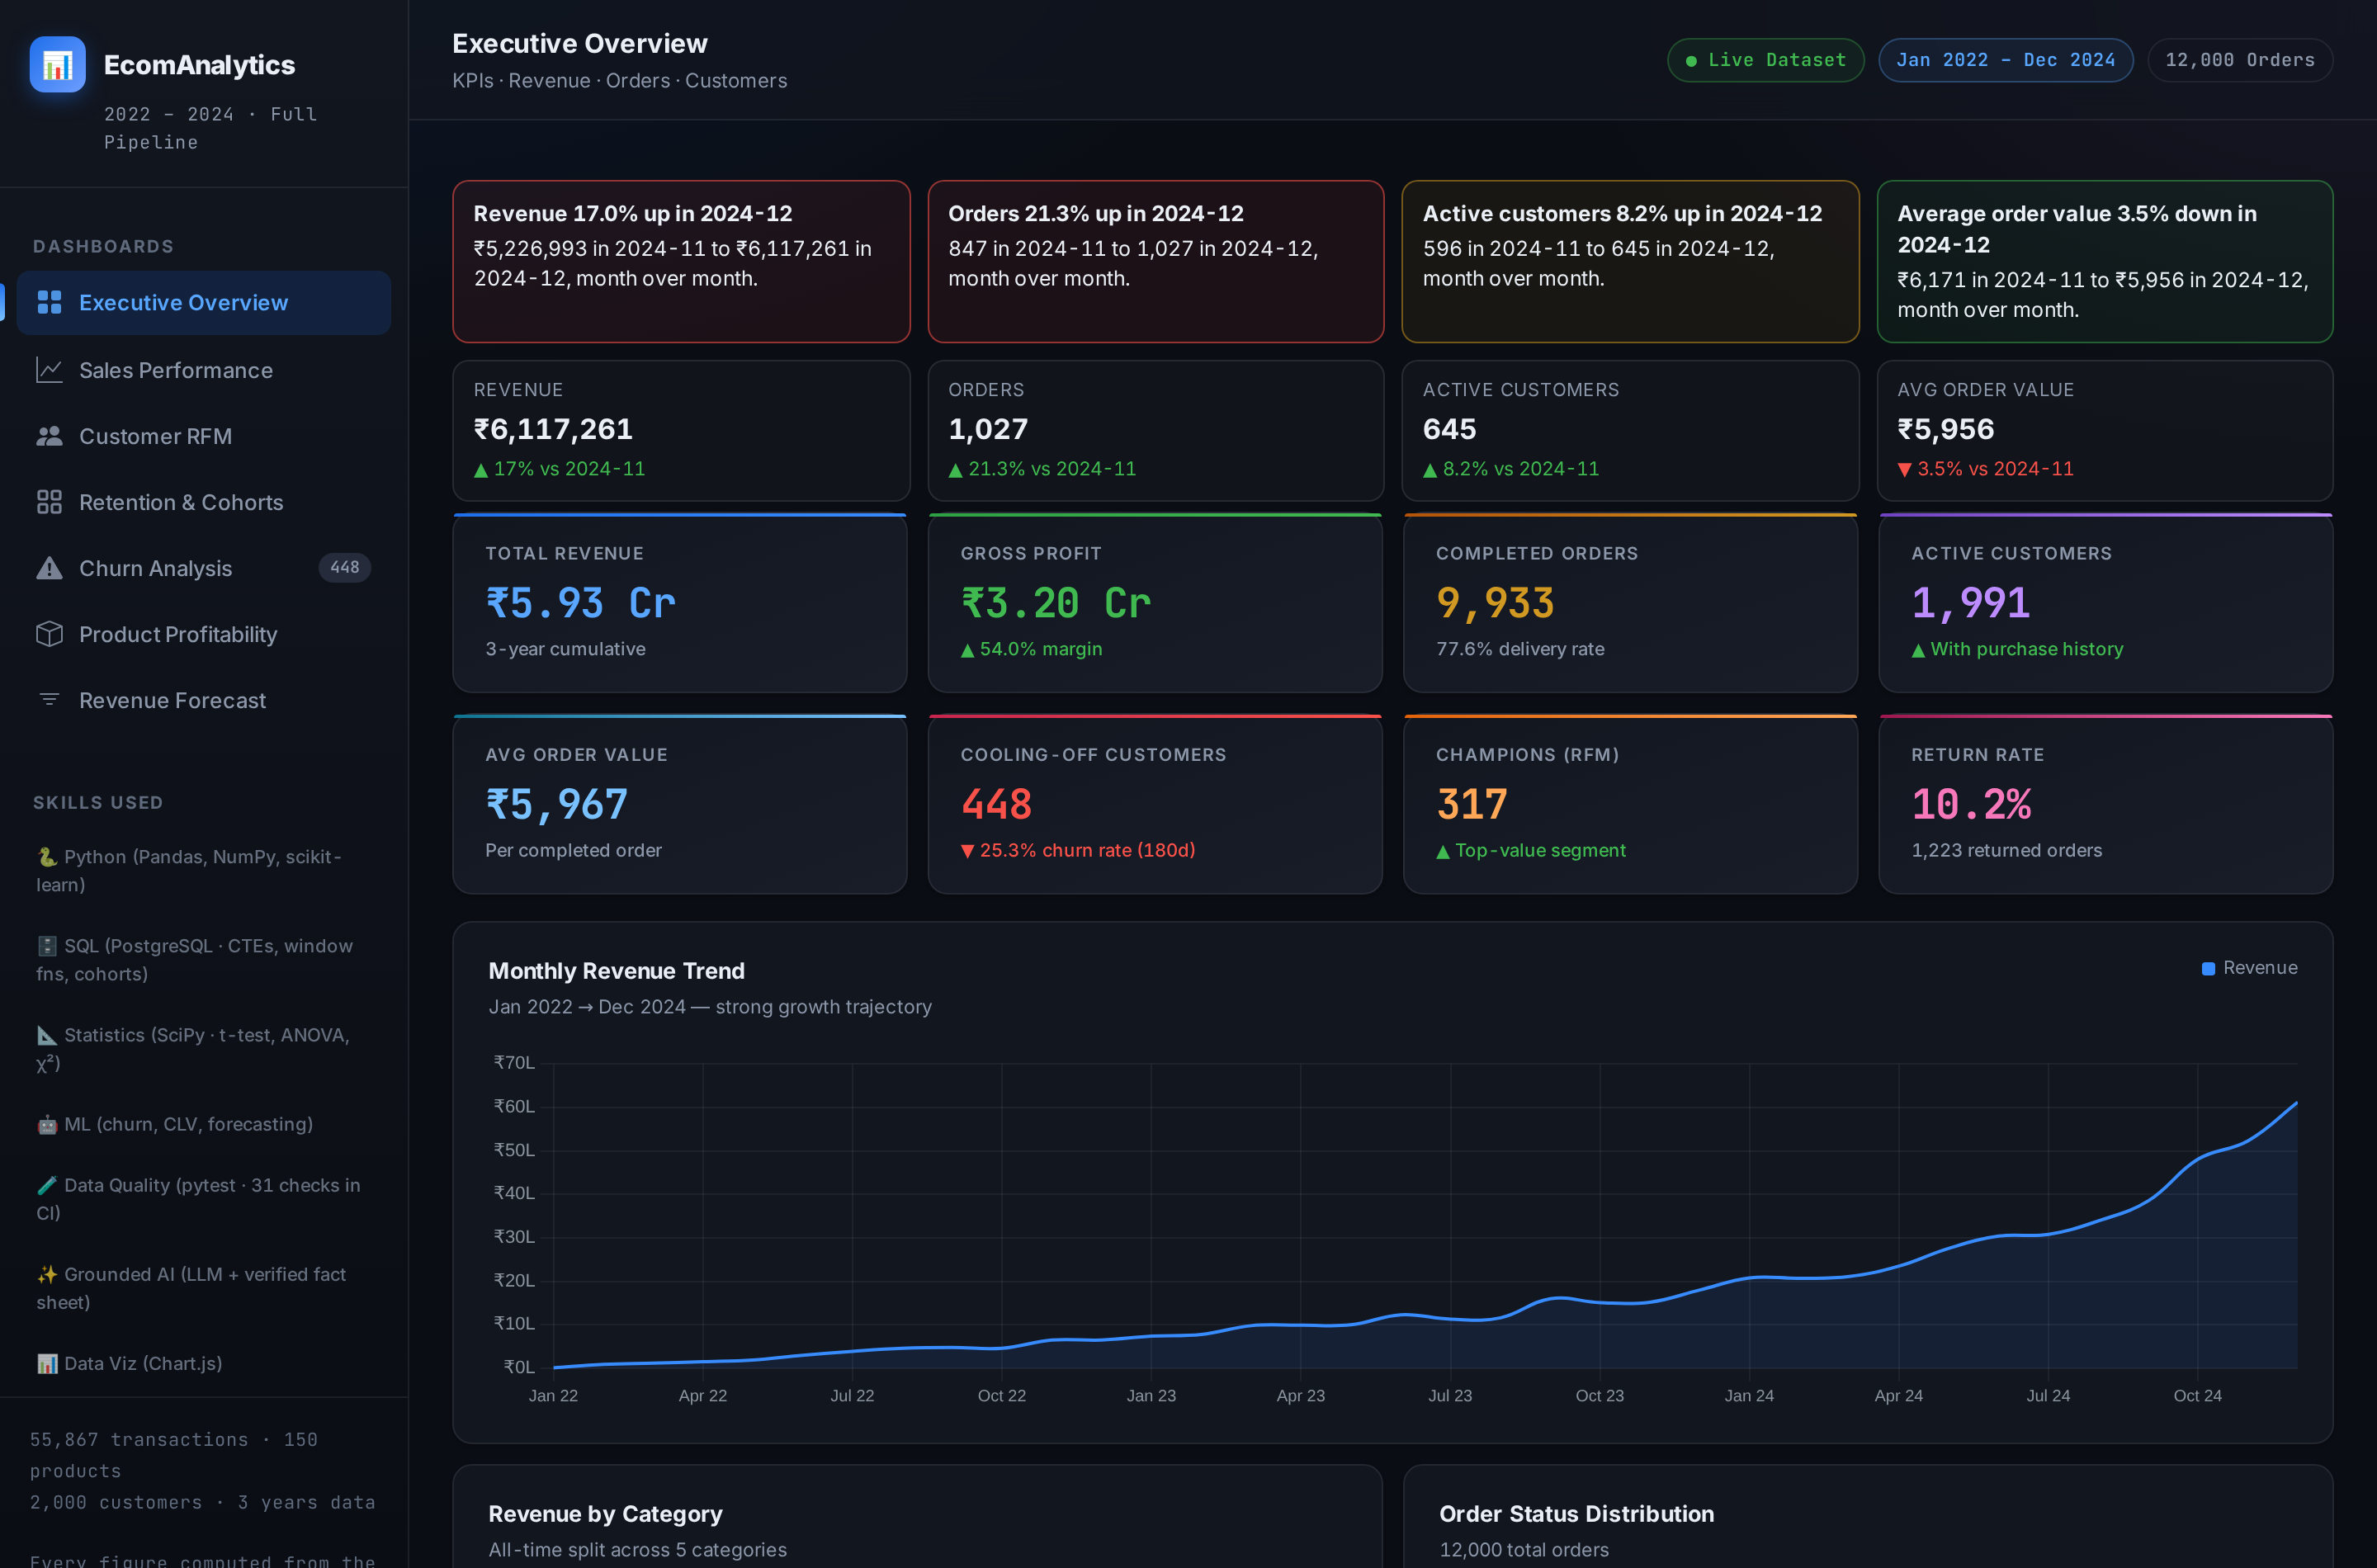

The page's visual inventory and layout, read from the dashboard file:
{"tool":"powerbi","page":{"name":"Executive Overview","canvas":[1280,720],"ordinal":0},"visuals":[{"type":"card","title":"Total revenue","fields":{"Values":["Fact_Orders.Total Revenue"]},"box":[16,16,196,96],"z":0},{"type":"card","title":"Gross profit","fields":{"Values":["Fact_Orders.Gross Profit"]},"box":[224,16,196,96],"z":0},{"type":"card","title":"Gross margin","fields":{"Values":["Fact_Orders.Gross Margin %"]},"box":[432,16,196,96],"z":0},{"type":"card","title":"Delivered orders","fields":{"Values":["Fact_Orders.Delivered Orders"]},"box":[640,16,196,96],"z":0},{"type":"card","title":"Average order value","fields":{"Values":["Fact_Orders.Average Order Value"]},"box":[848,16,196,96],"z":0},{"type":"card","title":"Active customers","fields":{"Values":["Fact_Orders.Active Customers"]},"box":[1056,16,196,96],"z":0},{"type":"slicer","title":"Year","fields":{"Values":["Dim_Calendar.Year"]},"box":[16,124,196,88],"z":0},{"type":"areaChart","title":"Revenue by month","fields":{"Category":["Dim_Calendar.MonthName"],"Y":["Fact_Orders.Total Revenue"]},"box":[224,124,592,270],"z":0},{"type":"clusteredColumnChart","title":"Revenue by category","fields":{"Category":["Dim_Products.category"],"Y":["Fact_Orders.Total Revenue"]},"box":[828,124,436,270],"z":0},{"type":"tableEx","title":"Revenue by customer segment","fields":{"Values":["Dim_Customers.segment","Fact_Orders.Total Revenue","Fact_Orders.Active Customers"]},"box":[16,406,420,298],"z":0},{"type":"barChart","title":"Revenue by payment method","fields":{"Category":["Fact_Orders.payment_method"],"Y":["Fact_Orders.Total Revenue"]},"box":[448,406,380,298],"z":0},{"type":"clusteredColumnChart","title":"Delivered orders by region","fields":{"Category":["Dim_Customers.region"],"Y":["Fact_Orders.Delivered Orders"]},"box":[840,406,424,298],"z":0}]}

Visuals, with their boxes on the page's 1280x720 design canvas (x1, y1, x2, y2). These are canvas units, not pixel positions in the 2377x1568 screenshot, which may show the page scaled, cropped or inside an application window:
"Total revenue" card: crop(16, 16, 212, 112)
"Gross profit" card: crop(224, 16, 420, 112)
"Gross margin" card: crop(432, 16, 628, 112)
"Delivered orders" card: crop(640, 16, 836, 112)
"Average order value" card: crop(848, 16, 1044, 112)
"Active customers" card: crop(1056, 16, 1252, 112)
"Year" slicer: crop(16, 124, 212, 212)
"Revenue by month" areaChart: crop(224, 124, 816, 394)
"Revenue by category" clusteredColumnChart: crop(828, 124, 1264, 394)
"Revenue by customer segment" tableEx: crop(16, 406, 436, 704)
"Revenue by payment method" barChart: crop(448, 406, 828, 704)
"Delivered orders by region" clusteredColumnChart: crop(840, 406, 1264, 704)
